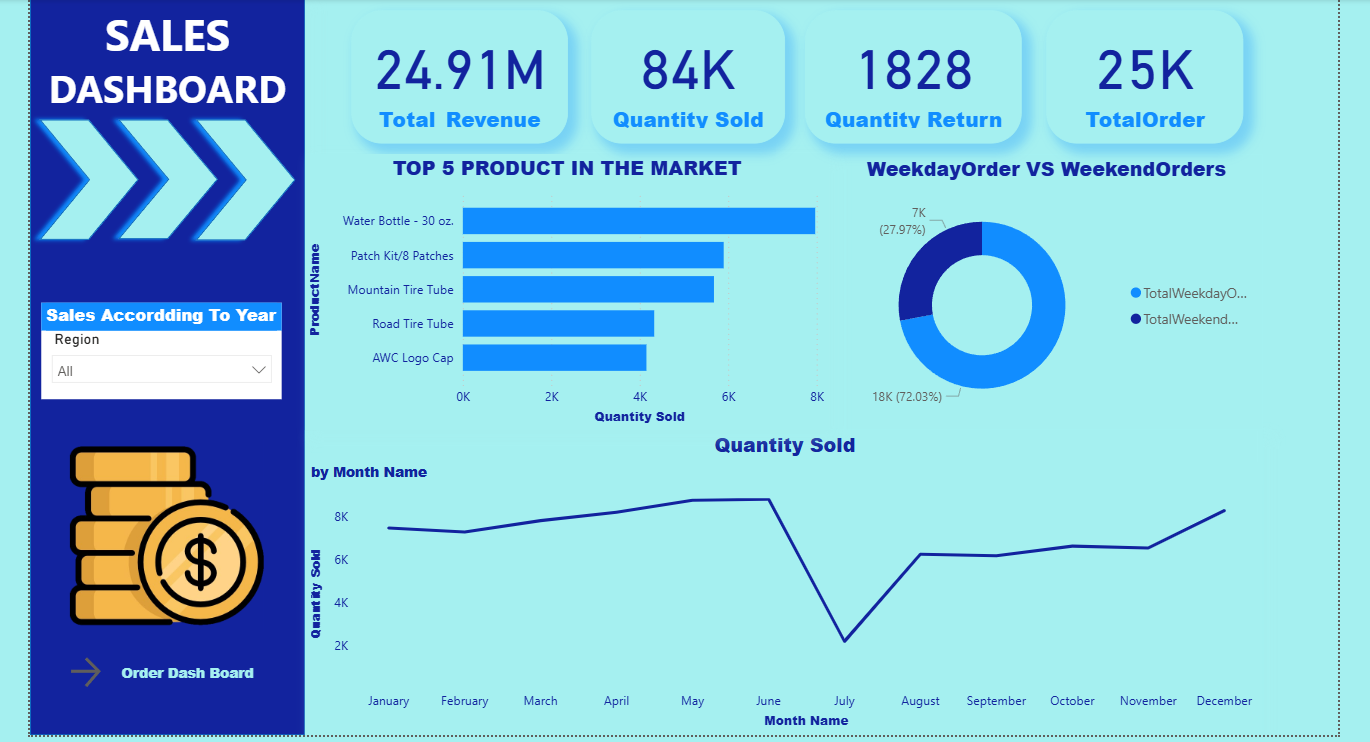

The dashboard page shown, as its layout file describes it:
{"tool":"powerbi","page":{"name":"Sales_Dash","canvas":[1280,720],"ordinal":0},"visuals":[{"type":"shape","box":[0,0,269,720.2],"z":0},{"type":"textbox","box":[0,0,269,162.9],"z":1000},{"type":"lineChart","fields":{"Y":["Dax_measure.Quantity Sold"],"Category":["Calendar.Month Name"]},"box":[269,422.3,937.4,298],"z":2000},{"type":"shape","box":[0,108.4,115.3,135.8],"z":3000},{"type":"card","fields":{"Values":["Dax_measure.Total_Revenue"]},"box":[313.7,10.9,212.3,130.3],"z":4000},{"type":"donutChart","title":"WeekdayOrder VS WeekendOrders","fields":{"Y":["Dax_measure.TotalWeekdayOrder","Dax_measure.TotalWeekendOrders"]},"box":[781.8,152,424.7,270.2],"z":5000},{"type":"barChart","title":"TOP 5 PRODUCT IN THE MARKET","fields":{"Category":["Products1.ProductName"],"Y":["Dax_measure.Quantity Sold"]},"box":[269,152,512.7,270.2],"z":6000},{"type":"shape","box":[77.2,108.6,115.8,135.1],"z":7000},{"type":"shape","box":[153.2,108.6,115.8,136.3],"z":8000},{"type":"slicer","title":"Sales Accordding  To Year","fields":{"Values":["Territories.Region"]},"box":[10.9,296.8,235.3,94.1],"z":9000},{"type":"actionButton","box":[33.8,638.2,189.4,39.8],"z":10000},{"type":"card","fields":{"Values":["Dax_measure.Quantity Sold"]},"box":[548.9,10.9,189.4,130.3],"z":11000},{"type":"card","fields":{"Values":["Dax_measure.Quantity Return"]},"box":[757.6,10.9,212.3,130.3],"z":12000},{"type":"card","fields":{"Values":["Dax_measure.TotalOrder"]},"box":[994.1,10.9,193,130.3],"z":13000},{"type":"image","box":[33.8,422.3,199.1,206.3],"z":13001}]}

Visuals, with their boxes on the page's 1280x720 design canvas (x1, y1, x2, y2). These are canvas units, not pixel positions in the 1370x742 screenshot, which may show the page scaled, cropped or inside an application window:
shape: bbox=[0, 0, 269, 720]
textbox: bbox=[0, 0, 269, 163]
lineChart - Dax_measure.Quantity Sold x Calendar.Month Name: bbox=[269, 422, 1206, 720]
shape: bbox=[0, 108, 115, 244]
card - Dax_measure.Total_Revenue: bbox=[314, 11, 526, 141]
"WeekdayOrder VS WeekendOrders" donutChart: bbox=[782, 152, 1206, 422]
"TOP 5 PRODUCT IN THE MARKET" barChart: bbox=[269, 152, 782, 422]
shape: bbox=[77, 109, 193, 244]
shape: bbox=[153, 109, 269, 245]
"Sales Accordding  To Year" slicer: bbox=[11, 297, 246, 391]
actionButton: bbox=[34, 638, 223, 678]
card - Dax_measure.Quantity Sold: bbox=[549, 11, 738, 141]
card - Dax_measure.Quantity Return: bbox=[758, 11, 970, 141]
card - Dax_measure.TotalOrder: bbox=[994, 11, 1187, 141]
image: bbox=[34, 422, 233, 629]
